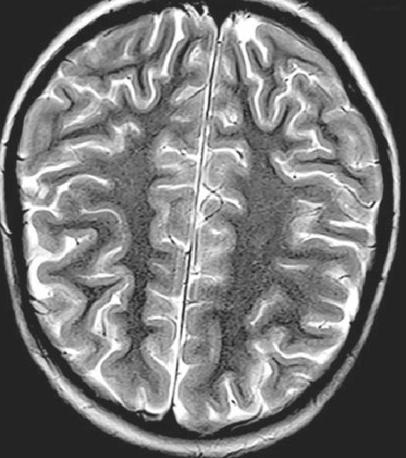Normal_Brain: (1, 16, 406, 458)
